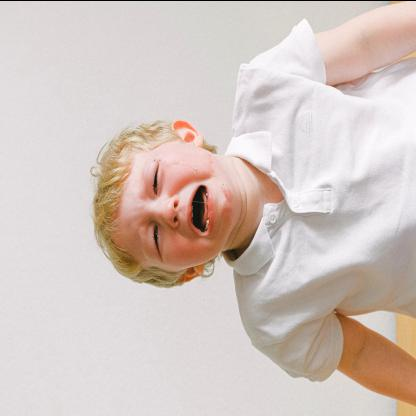Eye: (151, 223, 162, 257), (151, 160, 161, 196)
Mouth: (185, 180, 215, 238)
Nose: (154, 194, 180, 227)
